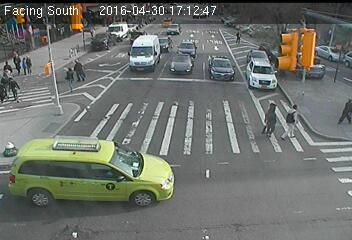neg: (212, 181, 241, 218), (250, 167, 271, 195), (75, 178, 95, 205), (61, 14, 80, 41), (43, 80, 61, 105), (26, 107, 43, 129), (207, 124, 223, 146), (31, 164, 46, 185), (101, 95, 116, 115), (278, 46, 293, 66), (168, 49, 183, 68), (158, 127, 173, 146), (310, 149, 325, 168), (116, 137, 130, 156), (141, 179, 155, 198), (91, 13, 105, 32), (50, 119, 63, 137), (181, 40, 194, 57), (112, 58, 125, 75), (171, 88, 183, 105), (210, 76, 222, 93), (307, 45, 319, 61), (191, 159, 203, 175), (132, 50, 143, 65), (150, 17, 161, 32), (190, 24, 200, 38), (234, 61, 244, 75), (118, 23, 128, 35), (50, 35, 59, 47), (256, 64, 264, 74)
pos: (278, 100, 310, 143), (329, 90, 351, 139), (260, 98, 286, 133), (5, 47, 24, 73), (2, 74, 21, 100), (67, 56, 86, 81), (20, 53, 36, 73), (16, 56, 31, 75), (63, 67, 76, 85), (233, 27, 246, 44)
